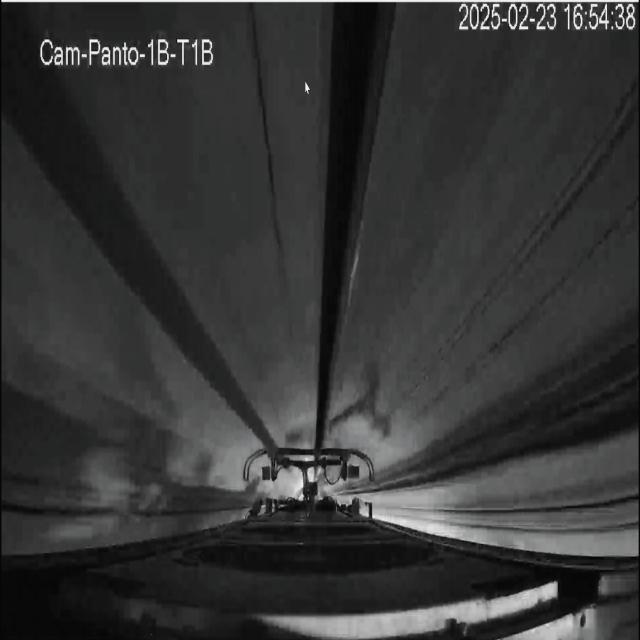Camera Stamp: (35, 29, 218, 70)
Date Stamp: (457, 3, 637, 33)
No - Spark: (244, 445, 374, 514)
